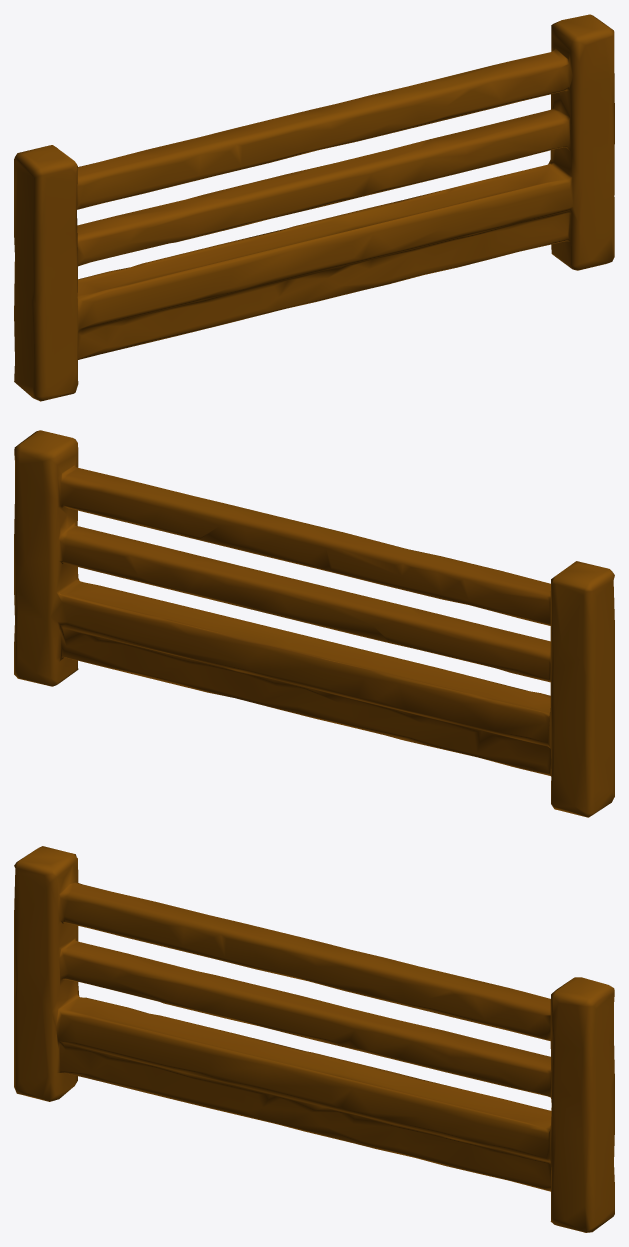
Rendered from gen3d-wooden-fence-lod0.glb.
The picture shows the model from 3 angles, top to bottom: view 1: azimuth 30°, elevation 25°; view 2: azimuth 150°, elevation 25°; view 3: azimuth 330°, elevation 25°; orthographic projection.
Visible parts, largest first — view 1: part_0; view 2: part_0; view 3: part_0.
Boxes of the visible parts, x1,y1,x2,y2 form: part_0: (14, 14, 614, 401); part_0: (14, 430, 614, 817); part_0: (14, 846, 614, 1232).
Bounding box in the file's own units: 2.58 × 0.9999 × 0.2072.
